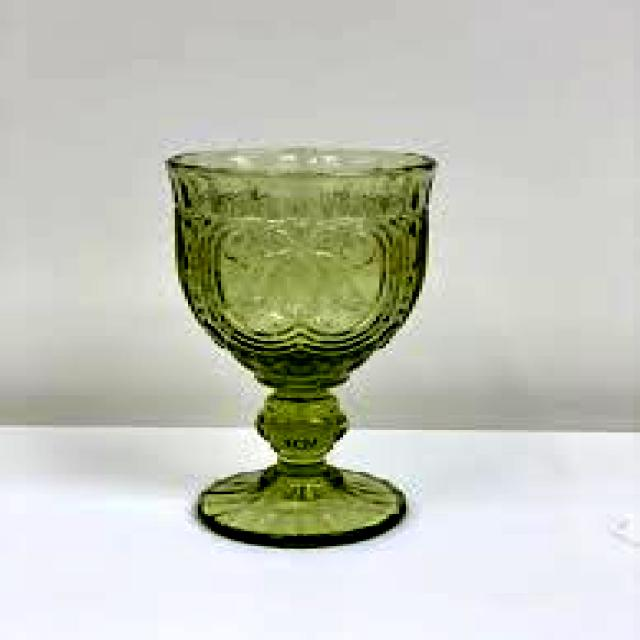Glass: (160, 143, 440, 551)
